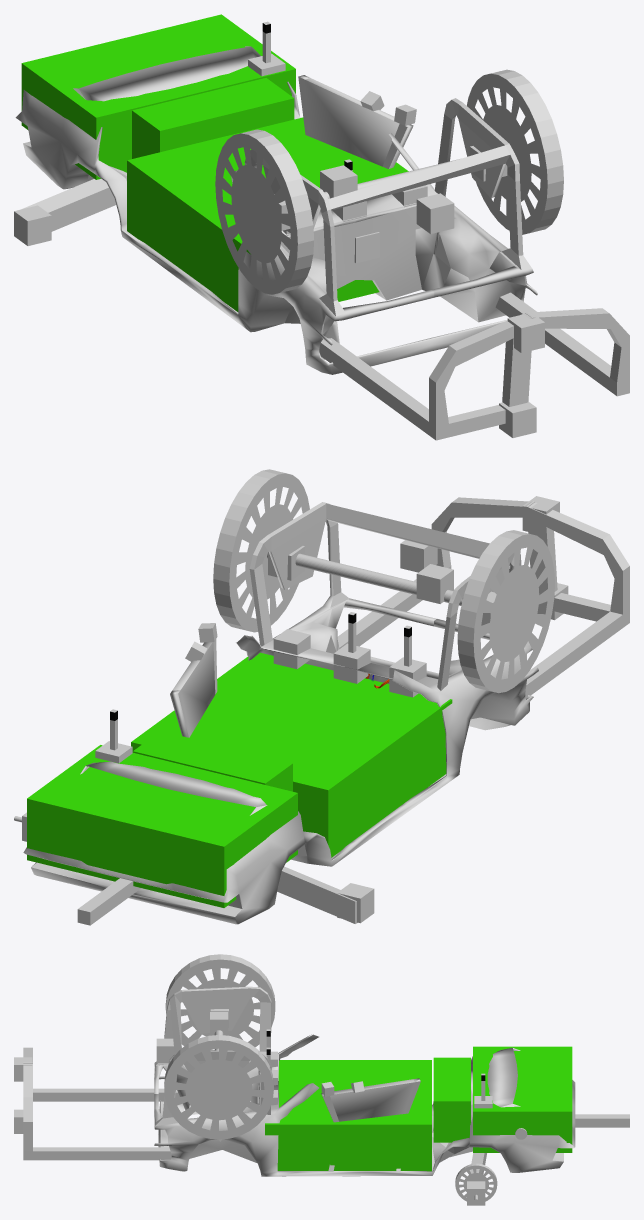
The model's file is sigma_test.glb.
3 renders of one model, top to bottom at view 1: azimuth 30°, elevation 25°; view 2: azimuth 150°, elevation 25°; view 3: azimuth 270°, elevation 25°, orthographic. The views are drawn at different scales.
Parts seen in each view (by area): view 1: Sigma Chassis, Physlock Volume, Physlock Volume.001, Wheel (Heavy Flywheel).001, Wheel (Heavy Flywheel), Physlock Volume.002, Radiator Mount, Rear Right Wheel Mount, Headlight Install Position, Steering Hinge, Engine Mount, Steering Mount; view 2: Sigma Chassis, Physlock Volume, Physlock Volume.001, Wheel (Heavy Flywheel).001, Wheel (Heavy Flywheel), Physlock Volume.002, Tow Hitch, Engine Mount, Gear Lever Mount, Clutch Mount, Radiator Mount, Throttle Mount (+1 smaller); view 3: Sigma Chassis, Physlock Volume, Wheel (Heavy Flywheel), Physlock Volume.001, Wheel (Heavy Flywheel).001, Physlock Volume.002, Wheel (Heavy Flywheel).002, Tow Hitch, Rear Left Wheel Mount, Radiator Mount, Engine Mount.
Part boxes in pixels (bbox=[...]): Sigma Chassis: bbox=[15, 46, 629, 440]; Physlock Volume: bbox=[127, 117, 408, 311]; Physlock Volume.001: bbox=[21, 14, 295, 179]; Wheel (Heavy Flywheel).001: bbox=[215, 129, 314, 294]; Wheel (Heavy Flywheel): bbox=[324, 69, 563, 234]; Physlock Volume.002: bbox=[132, 78, 294, 158]; Radiator Mount: bbox=[416, 193, 454, 233]; Rear Right Wheel Mount: bbox=[14, 205, 51, 245]; Headlight Install Position: bbox=[507, 312, 544, 352]; Steering Hinge: bbox=[499, 402, 536, 437]; Engine Mount: bbox=[320, 165, 357, 198]; Steering Mount: bbox=[354, 232, 379, 263]; Sigma Chassis: bbox=[23, 497, 629, 924]; Physlock Volume: bbox=[131, 652, 452, 857]; Physlock Volume.001: bbox=[27, 745, 297, 907]; Wheel (Heavy Flywheel).001: bbox=[457, 530, 554, 693]; Wheel (Heavy Flywheel): bbox=[213, 469, 461, 632]; Physlock Volume.002: bbox=[133, 731, 292, 791]; Tow Hitch: bbox=[77, 878, 141, 925]; Engine Mount: bbox=[416, 564, 453, 603]; Gear Lever Mount: bbox=[273, 629, 310, 669]; Clutch Mount: bbox=[333, 643, 370, 683]; Radiator Mount: bbox=[400, 540, 437, 572]; Throttle Mount: bbox=[389, 657, 426, 697]; Sigma Chassis: bbox=[23, 986, 575, 1176]; Physlock Volume: bbox=[265, 1060, 431, 1171]; Wheel (Heavy Flywheel): bbox=[164, 1030, 273, 1139]; Physlock Volume.001: bbox=[473, 1046, 572, 1152]; Wheel (Heavy Flywheel).001: bbox=[165, 954, 275, 1050]; Physlock Volume.002: bbox=[433, 1057, 470, 1142]; Wheel (Heavy Flywheel).002: bbox=[455, 1163, 497, 1202]; Tow Hitch: bbox=[575, 1114, 629, 1127]; Rear Left Wheel Mount: bbox=[467, 1181, 485, 1205]; Radiator Mount: bbox=[156, 1038, 174, 1062]; Engine Mount: bbox=[210, 1012, 228, 1035].
Size of what is drawn, in the model's own units: 2.76 by 1.82 by 6.21.
